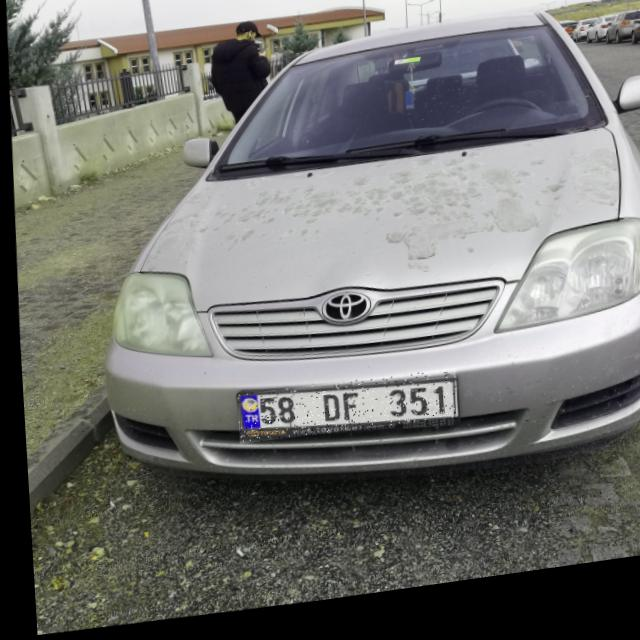license_plate: (231, 376, 452, 454)
